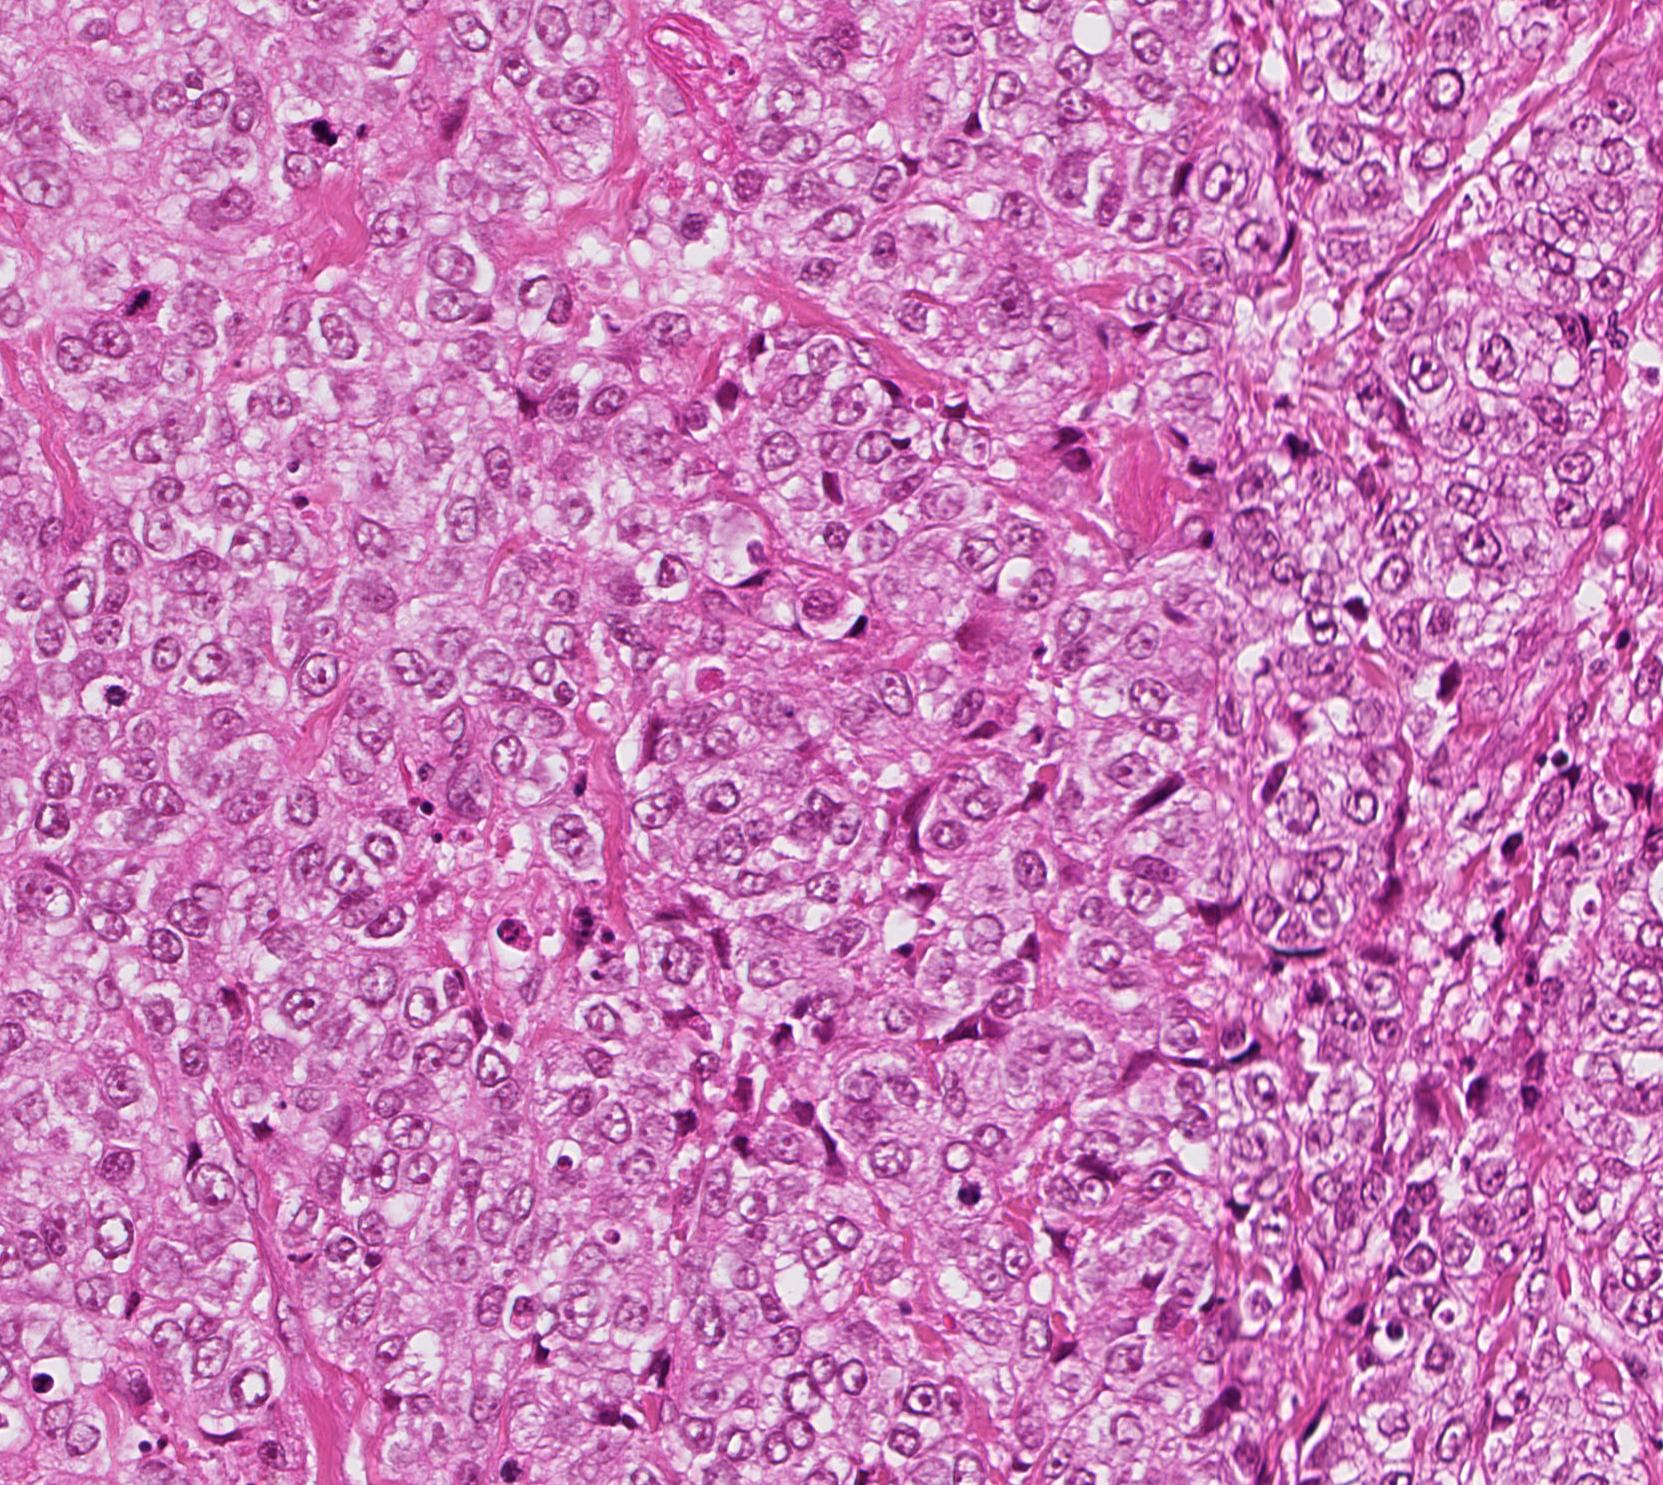mitosis: (77, 664, 138, 722)
